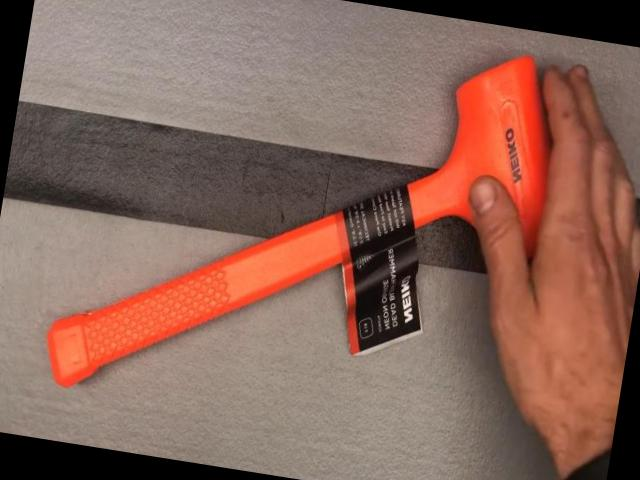hammer: (35, 0, 588, 461)
